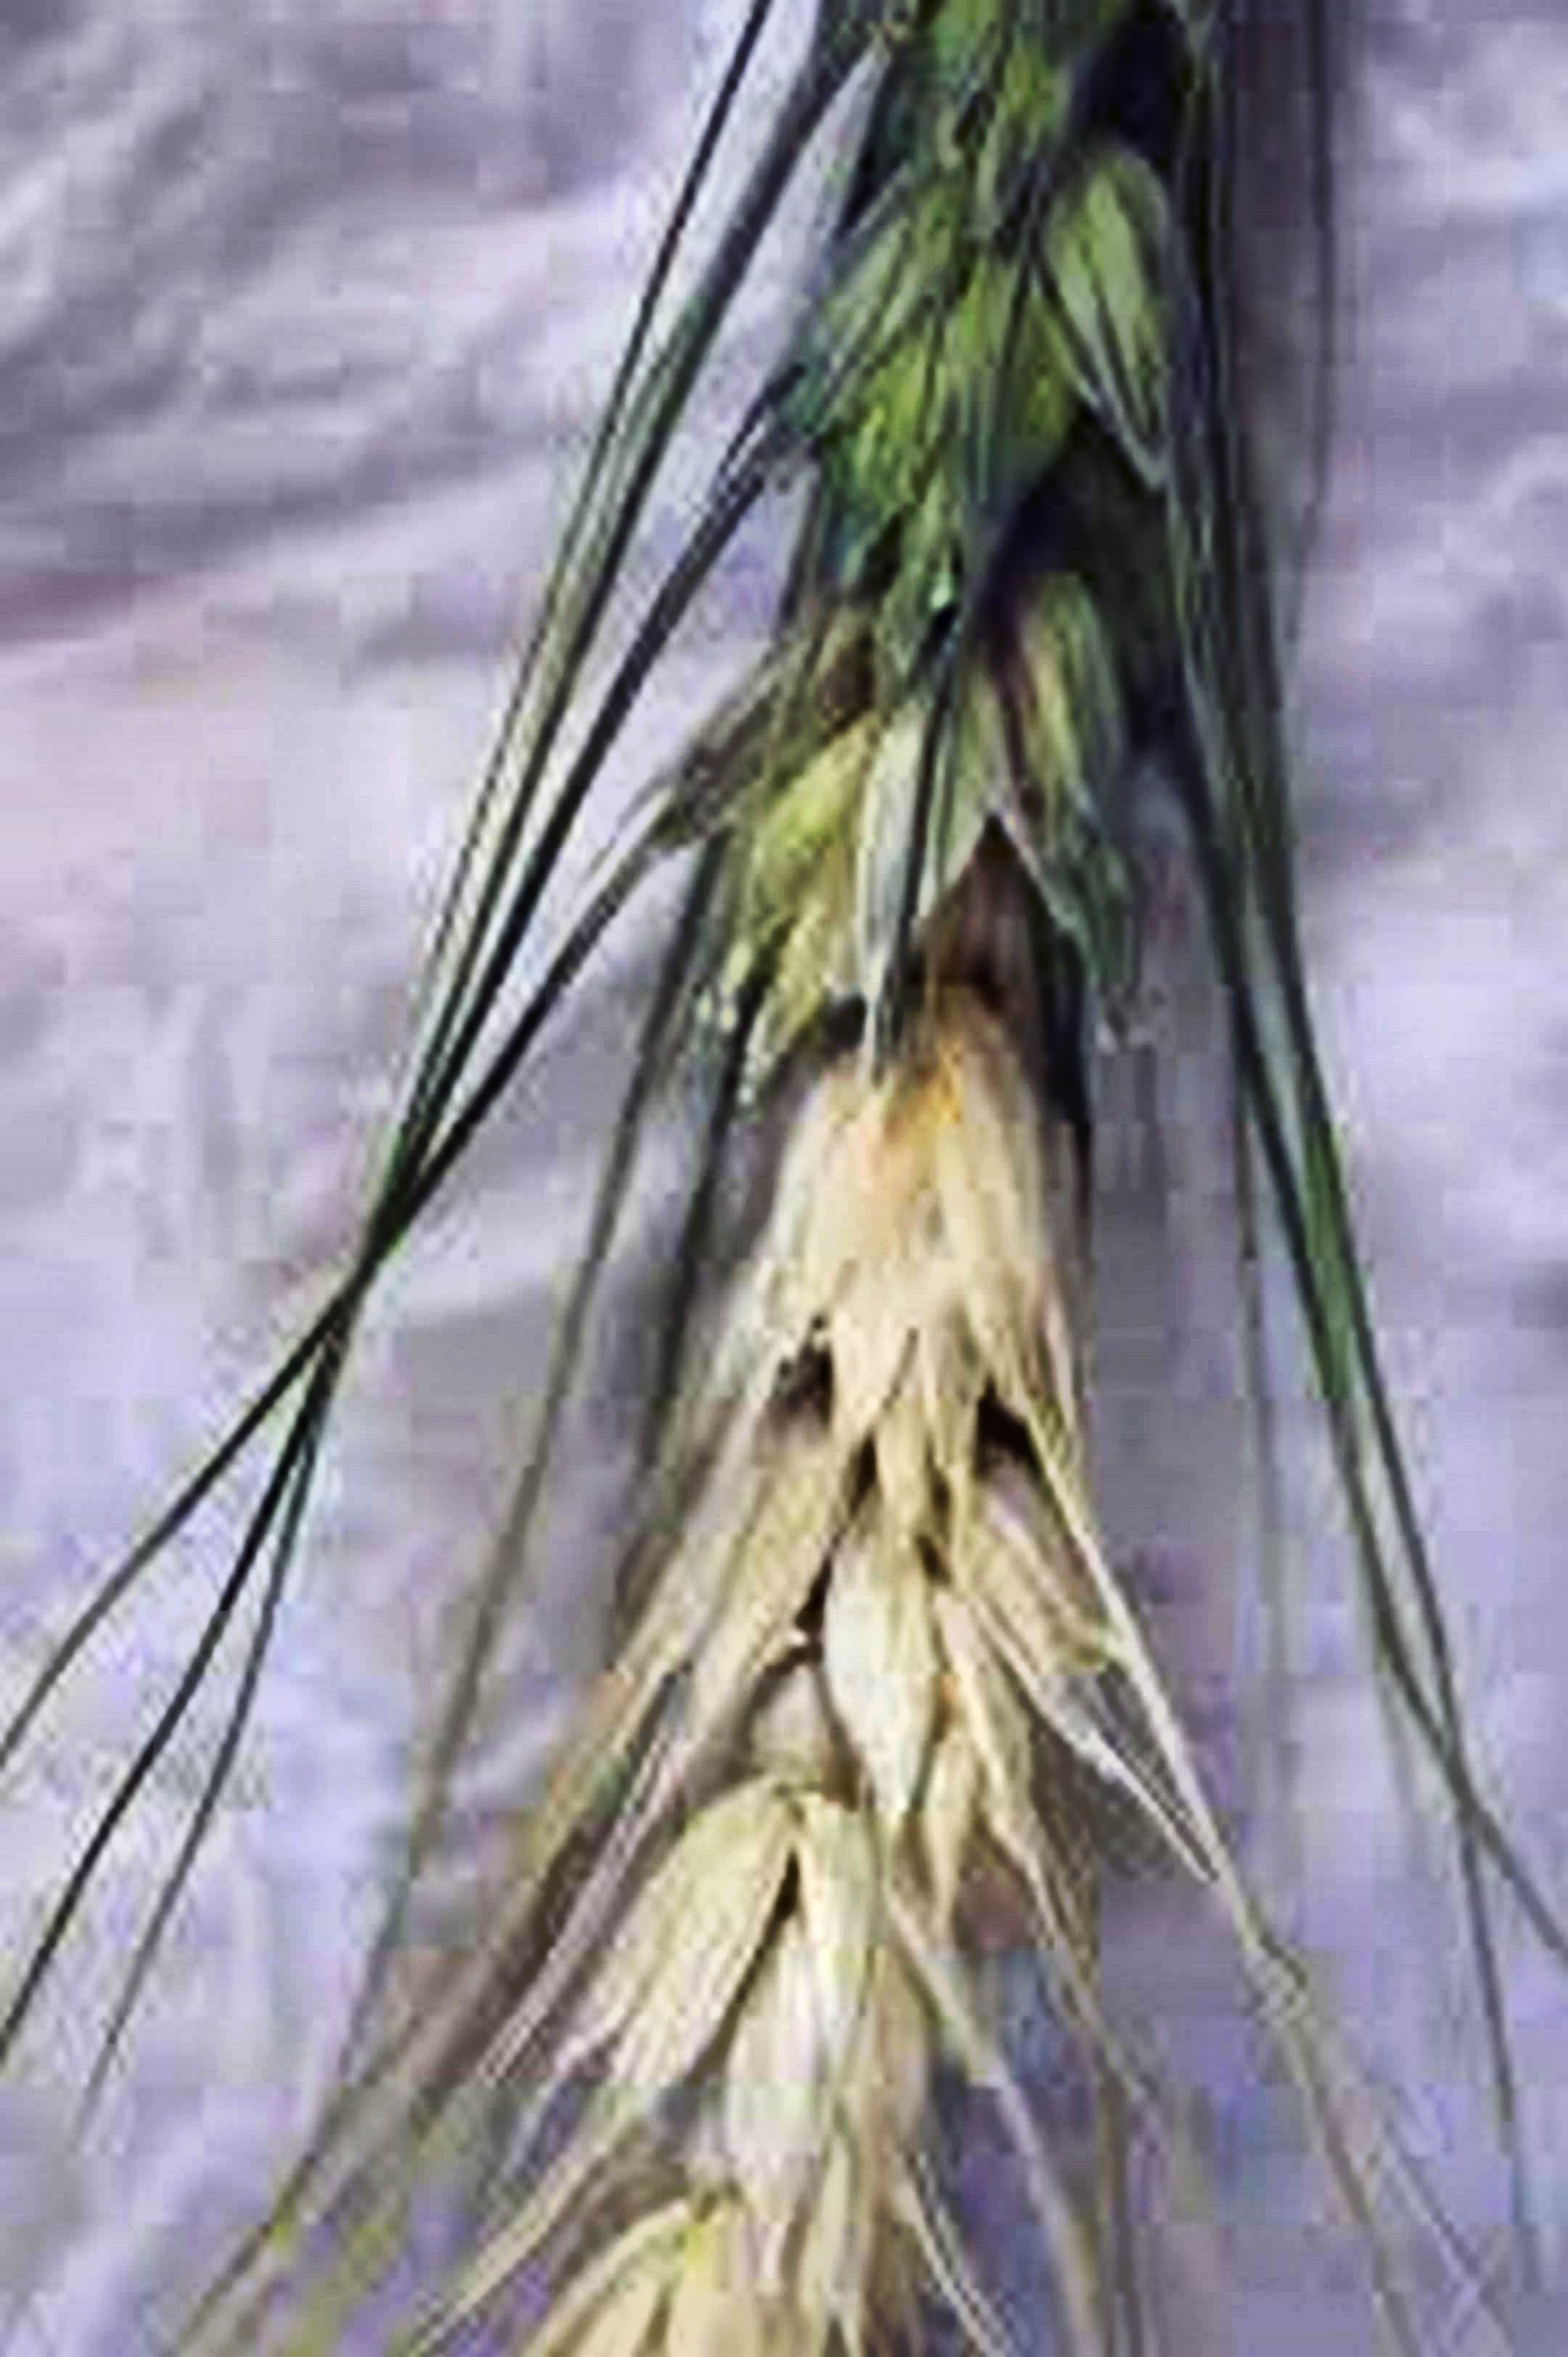Wheat scab: (448, 14, 1344, 2357)
